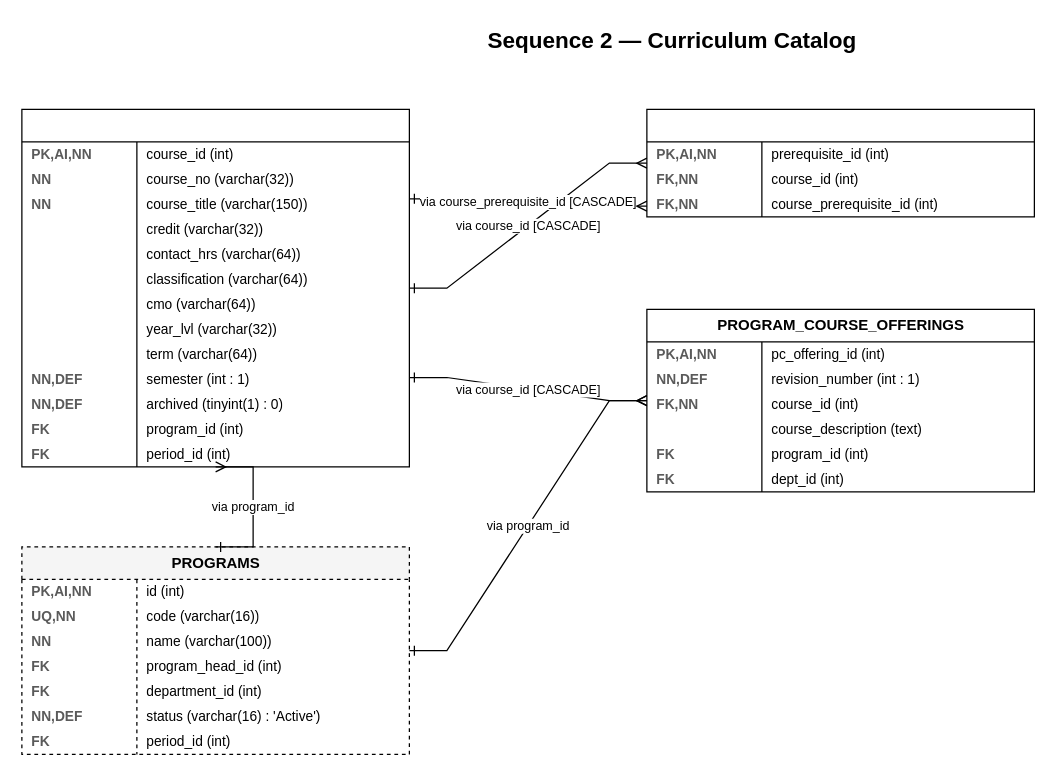
This 1056x776 diagram has some shape labels left out. The shapes that lost their labels are listed below. From the top down, each one's box as (x1, y1, x2, y2) in pixels, then its label:
(646, 108, 1034, 217): PREREQUISITES
(21, 108, 409, 467): COURSES
